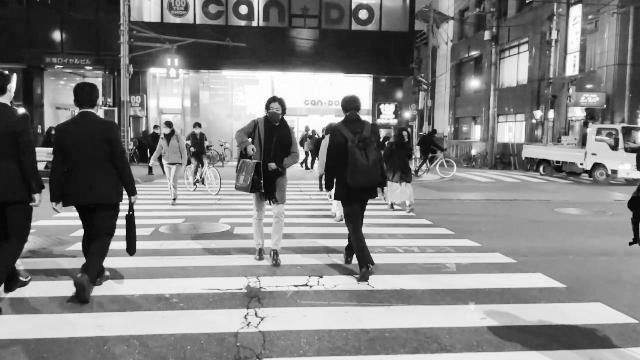berjalan: (47, 80, 139, 304), (318, 89, 390, 289), (232, 94, 302, 272), (147, 114, 190, 206)
